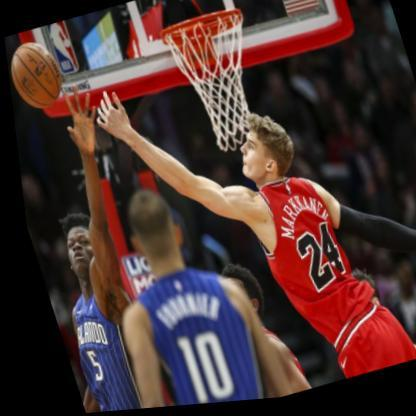basketball: (4, 36, 66, 114)
rim: (155, 7, 278, 164)
